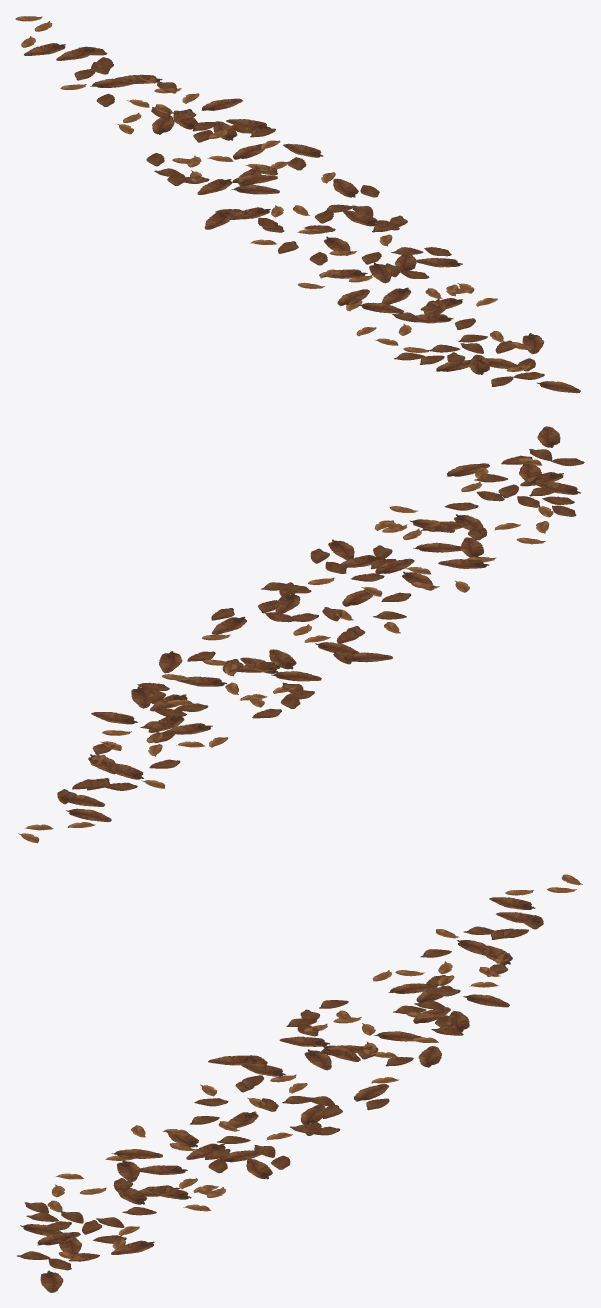
The model's file is SM_DriedLeaves2.fbx.
3 renders of one model, top to bottom at view 1: azimuth 30°, elevation 25°; view 2: azimuth 150°, elevation 25°; view 3: azimuth 330°, elevation 25°, orthographic. The views are drawn at different scales.
Parts seen in each view (by area): view 1: SM_DriedLeaves2; view 2: SM_DriedLeaves2; view 3: SM_DriedLeaves2.
Part boxes in pixels (<box>): SM_DriedLeaves2: <box>15,16,580,393</box>; SM_DriedLeaves2: <box>18,426,584,843</box>; SM_DriedLeaves2: <box>17,874,582,1292</box>.
Size of the model in its own units: 106 by 542 by 1.37.
